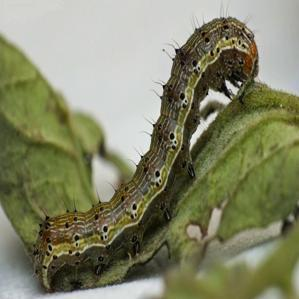Cotton bollworm: (21, 7, 270, 295)
